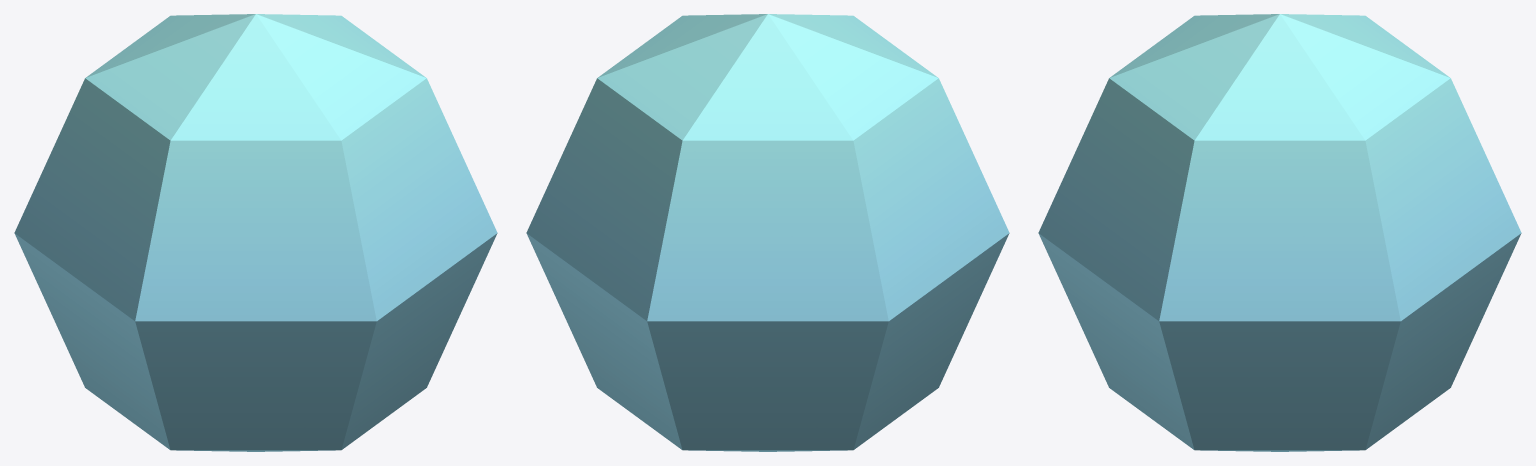
The model's file is spark.glb.
The picture shows the model from 3 angles, left to right: view 1: azimuth 30°, elevation 25°; view 2: azimuth 150°, elevation 25°; view 3: azimuth 270°, elevation 25°; orthographic projection.
Visible parts, largest first — view 1: spark; view 2: spark; view 3: spark.
Boxes of the visible parts, x1,y1,x2,y2 form: spark: (14,14,497,451); spark: (526,14,1009,451); spark: (1038,14,1521,451).
Size of the model in its own units: 0.2598 by 0.3 by 0.3.
1 material, 1 textured.
